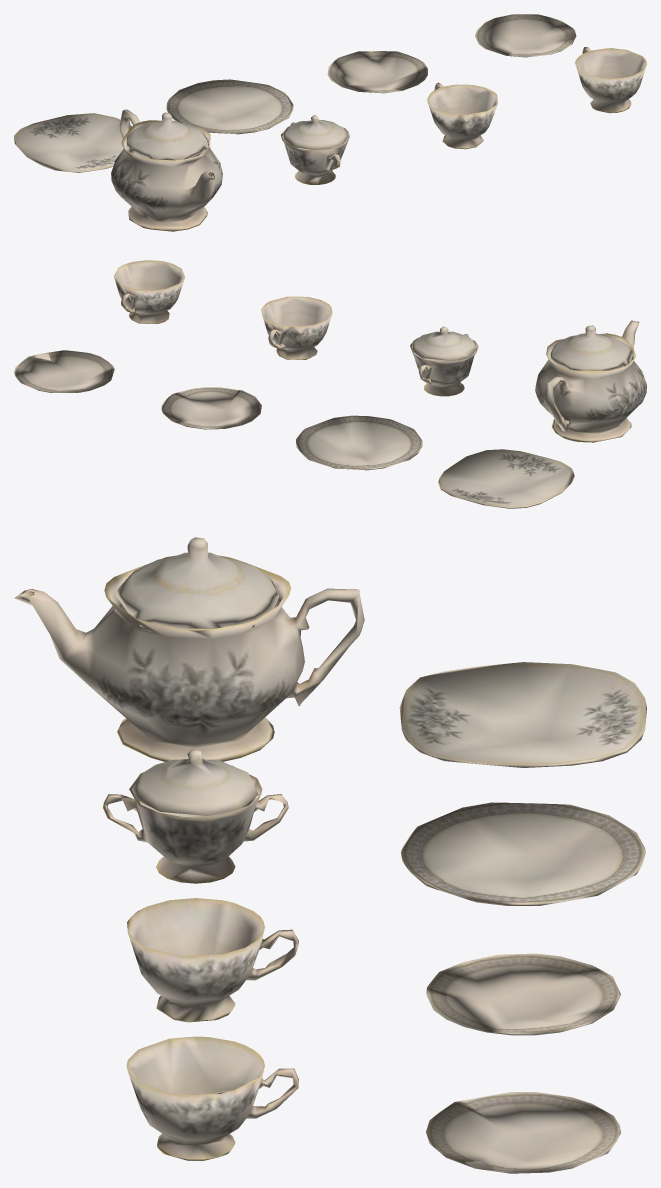
The model's file is tea_set.glb.
3 views of the same model, one above another, from view 1: azimuth 30°, elevation 25°; view 2: azimuth 150°, elevation 25°; view 3: azimuth 270°, elevation 25° (orthographic). The views are drawn at different scales.
Visible parts, largest first — view 1: tea_set_01_plate_large_square_01; view 2: tea_set_01_plate_large_square_01; view 3: tea_set_01_plate_large_square_01.
Part boxes in pixels (x1,y1,x2,y2): tea_set_01_plate_large_square_01: [14, 14, 646, 231]; tea_set_01_plate_large_square_01: [14, 260, 646, 508]; tea_set_01_plate_large_square_01: [14, 537, 646, 1173].
Bounding box in the file's own units: 0.9174 × 0.1633 × 0.4828.
1 material, 1 textured.
